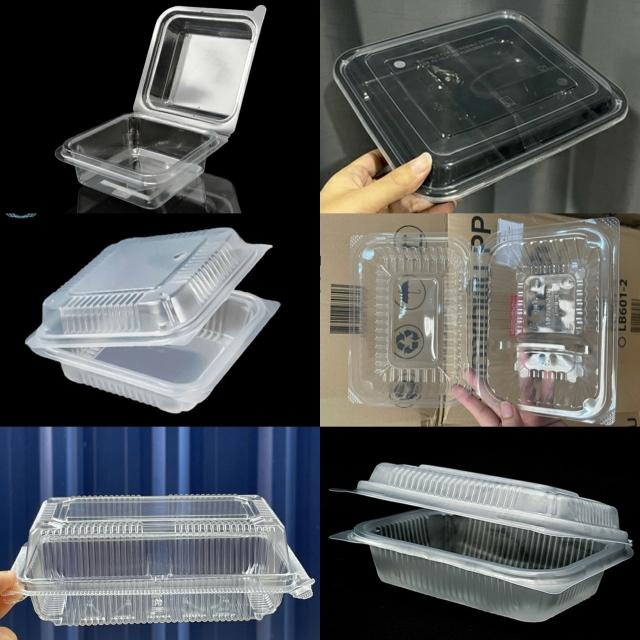Single-Use-Plastic: (333, 10, 628, 201), (349, 219, 619, 424), (332, 462, 632, 622), (26, 228, 279, 412), (55, 6, 265, 209), (13, 495, 314, 625)
